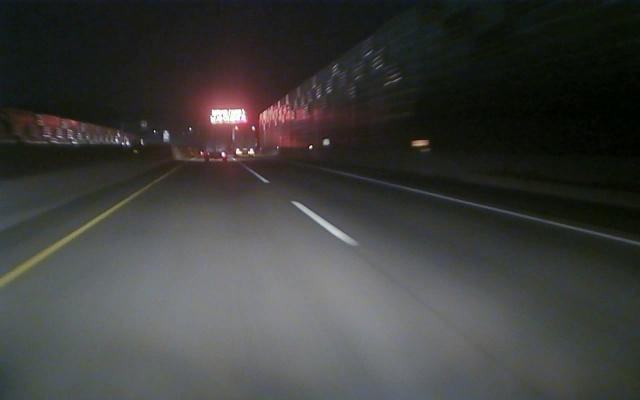lane: (347, 173, 637, 247), (3, 189, 142, 286), (251, 169, 363, 246)
